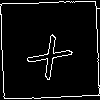X: (25, 25, 81, 81)
